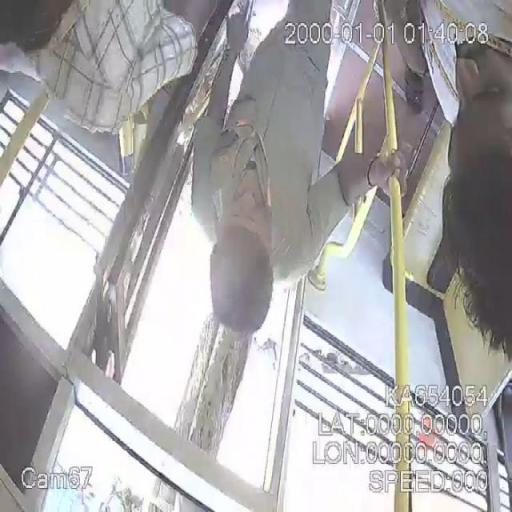persona: (188, 0, 408, 339), (422, 0, 512, 370)
